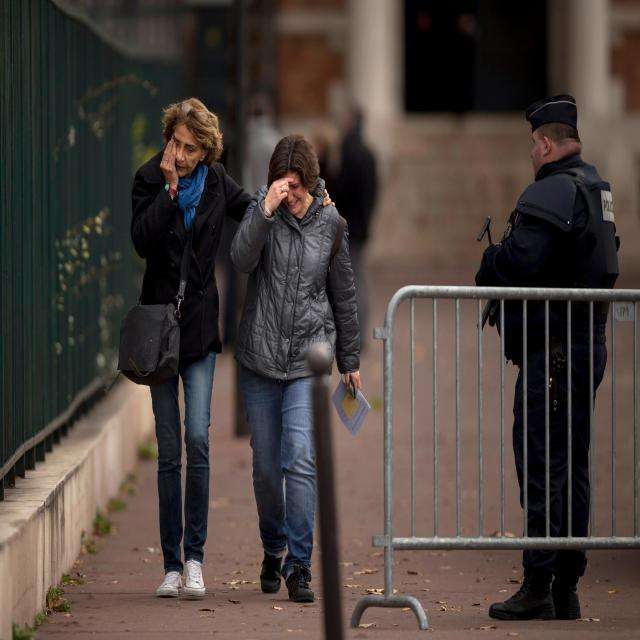body: (115, 94, 338, 606), (468, 88, 624, 626), (227, 129, 375, 606), (235, 77, 388, 355)
